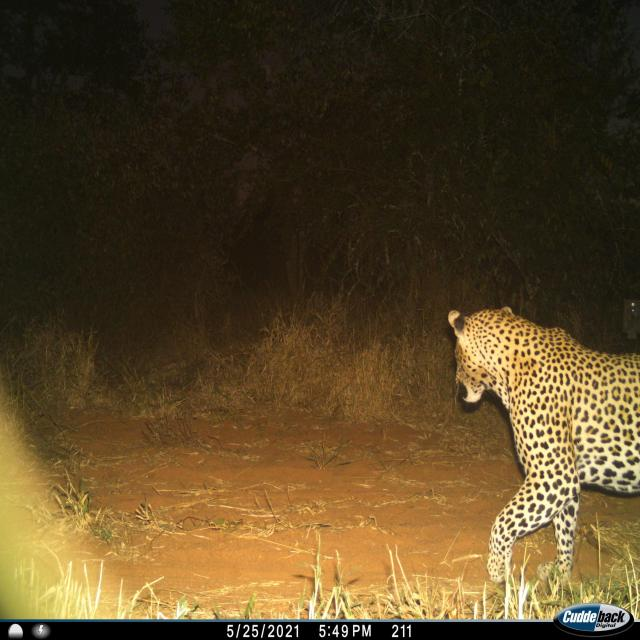Leopard: (435, 299, 640, 616)
